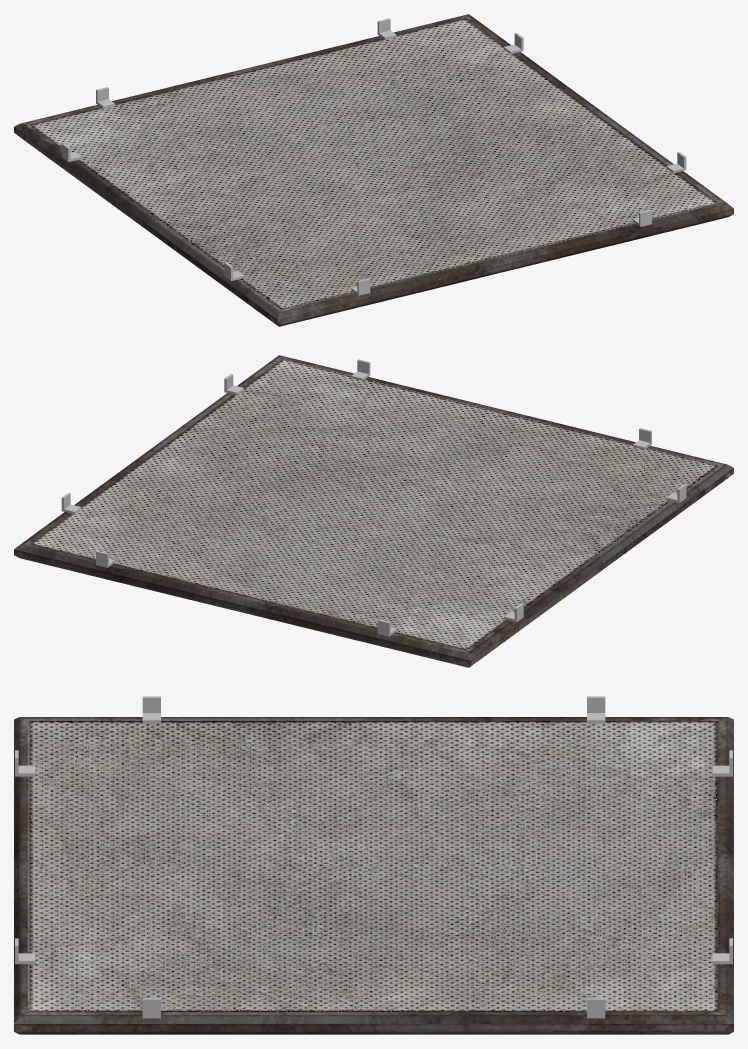
Rendered from waitingroom_board_square_worn.dae.
3 views of the same model, one above another, from view 1: azimuth 30°, elevation 25°; view 2: azimuth 150°, elevation 25°; view 3: azimuth 270°, elevation 25° (orthographic). The views are drawn at different scales.
Visible parts, largest first — view 1: waitingroom_boards_square_dirty, polySurface11; view 2: waitingroom_boards_square_dirty, polySurface11; view 3: waitingroom_boards_square_dirty, polySurface11.
Boxes of the visible parts, x1=… form: waitingroom_boards_square_dirty: x1=14, y1=14, x2=733, y2=326; polySurface11: x1=61, y1=18, x2=686, y2=295; waitingroom_boards_square_dirty: x1=14, y1=355, x2=733, y2=667; polySurface11: x1=61, y1=359, x2=686, y2=636; waitingroom_boards_square_dirty: x1=14, y1=717, x2=733, y2=1034; polySurface11: x1=15, y1=696, x2=732, y2=1018.
Size of the model in its own units: 1 by 0.0562 by 1.
